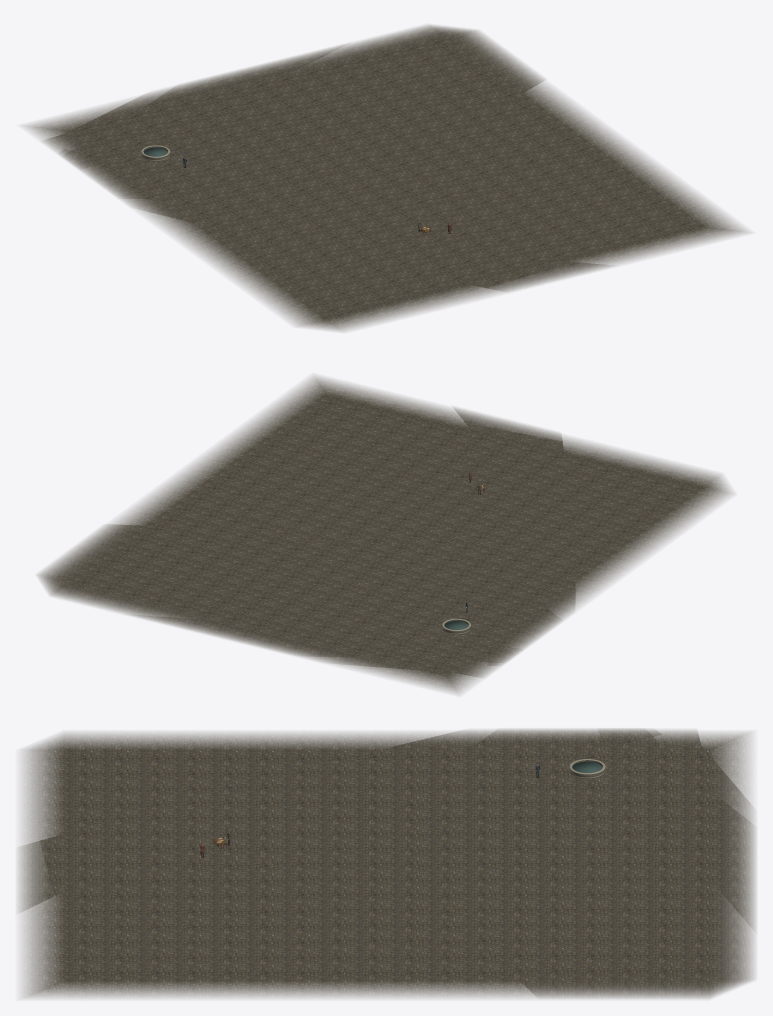
The model's file is rp_leben.glb.
3 renders of one model, top to bottom at view 1: azimuth 30°, elevation 25°; view 2: azimuth 150°, elevation 25°; view 3: azimuth 270°, elevation 25°, orthographic. The views are drawn at different scales.
Visible parts, largest first — view 1: Platzpflaster; view 2: Platzpflaster; view 3: Platzpflaster, Rathauskump.
Part boxes in pixels (left/top/right/bottom): Platzpflaster: left=23, top=25, right=749, bottom=331; Platzpflaster: left=37, top=375, right=733, bottom=694; Platzpflaster: left=18, top=728, right=755, bottom=998; Rathauskump: left=569, top=759, right=605, bottom=778.
Bounding box in the file's own units: 65 × 1.85 × 75.
12 materials, 1 textured.
